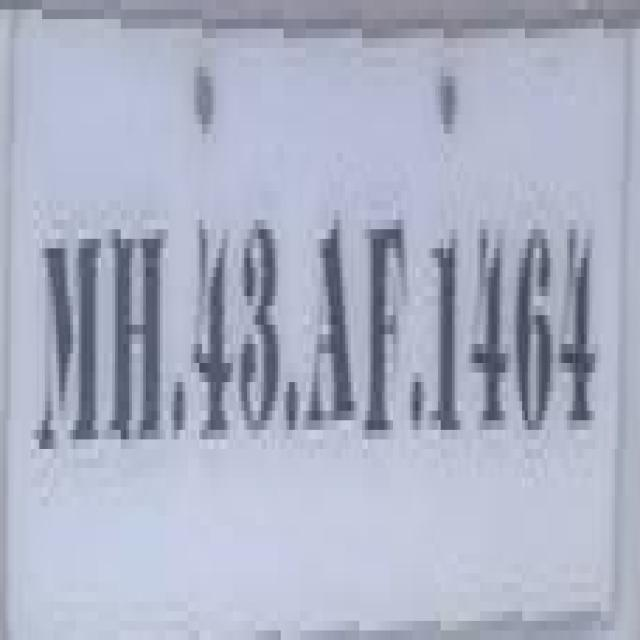license_plate: (19, 19, 640, 592)
